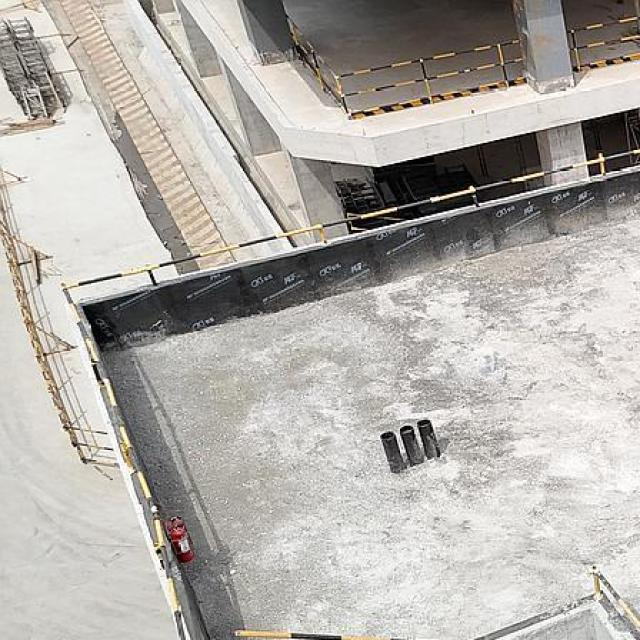edge_guardrail: (58, 147, 640, 640), (286, 15, 528, 121), (565, 15, 640, 73)
